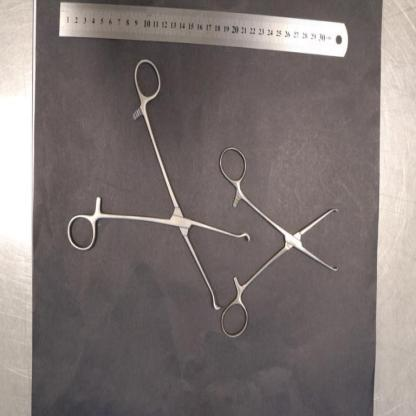8 Babcock Tissue Forceps: (65, 54, 252, 312)
Allis Tissue Forceps: (219, 142, 340, 341)
